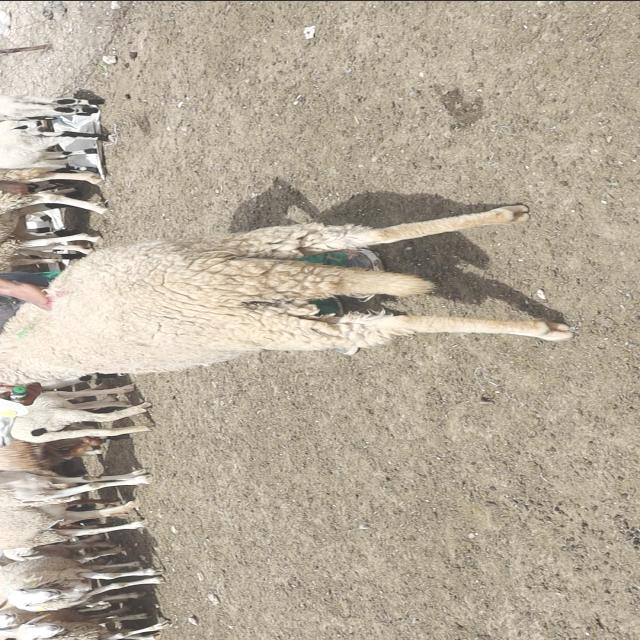Score_2: (0, 204, 574, 393)
